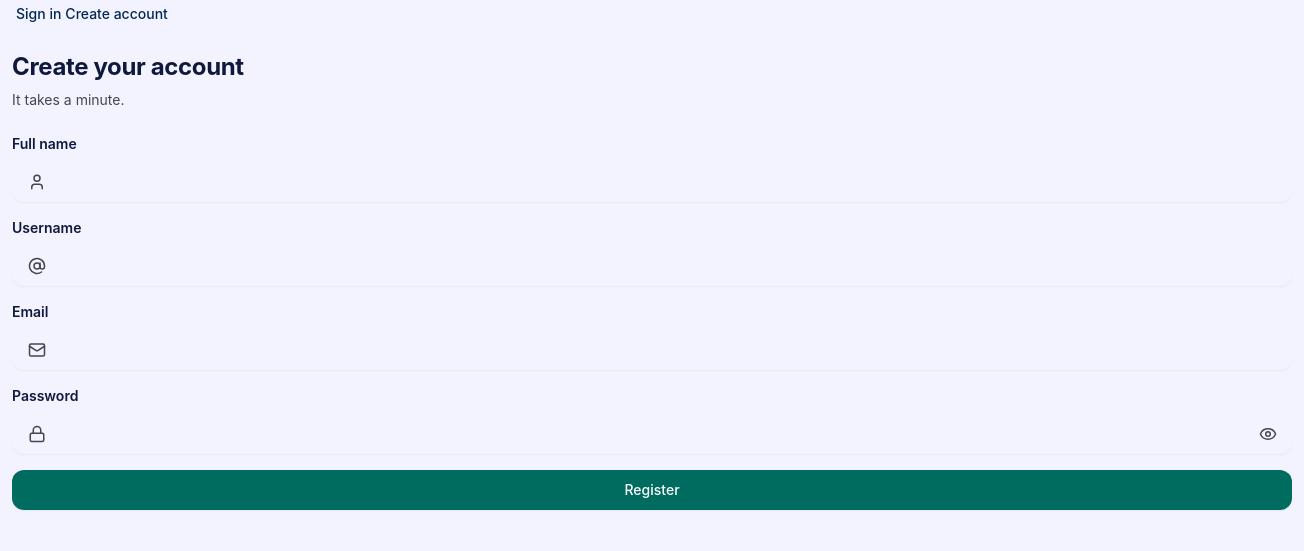
Test case: AuthForm › checks availability on blur and shows the taken message
The width and height of the screenshot is (1304, 551).
In the field labelled "Username": (652, 266) 12,246 -> 1292,286, type "ann"
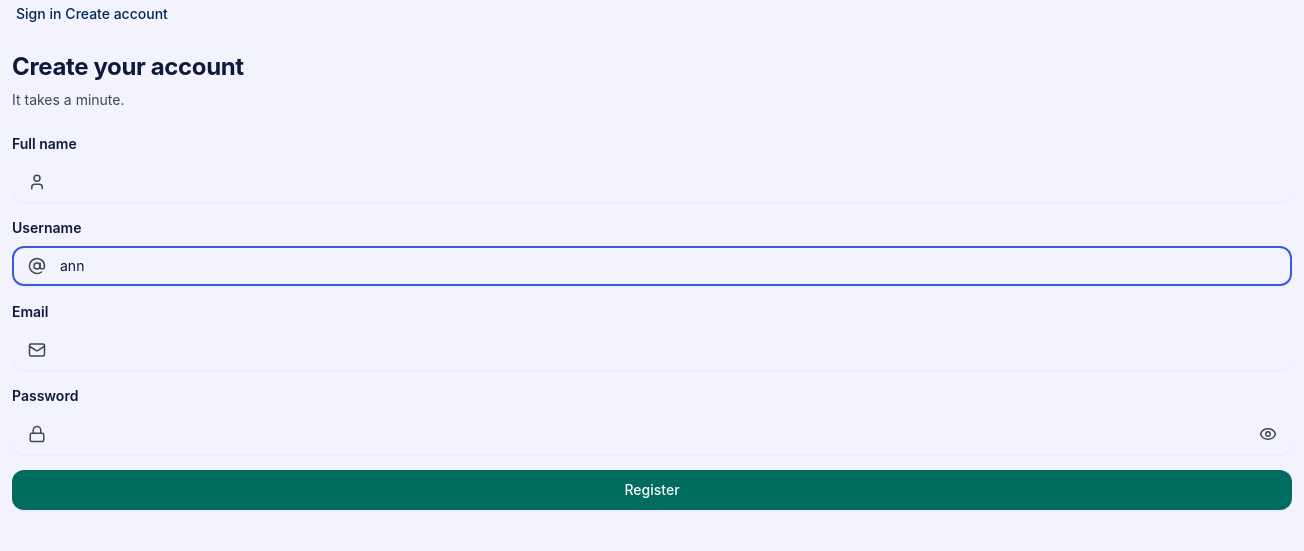
Press Tab
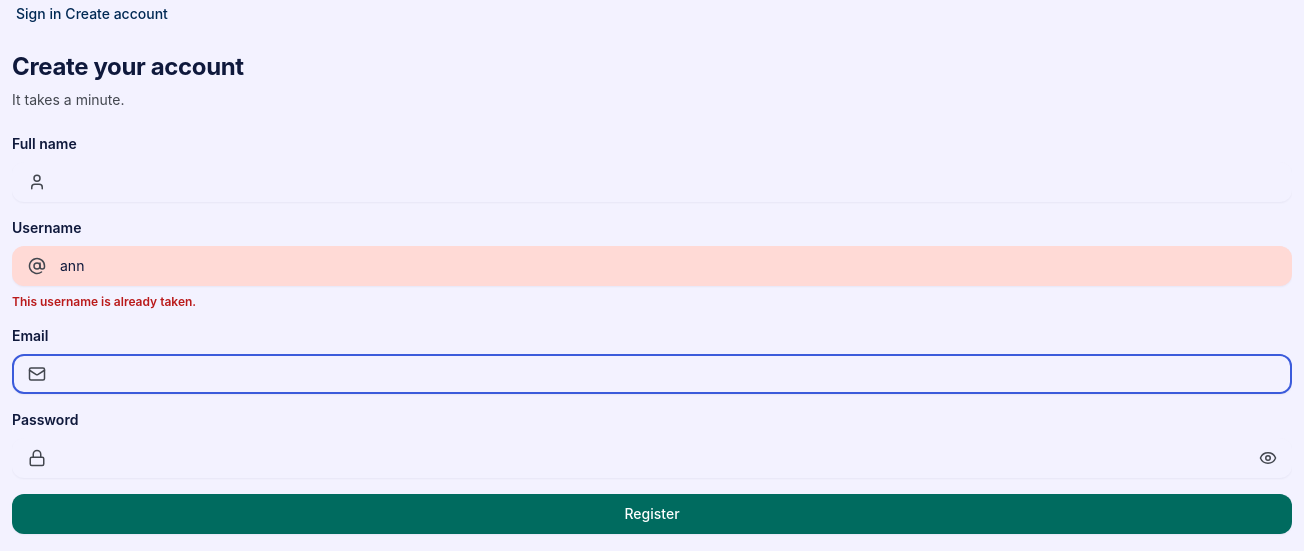
expect the text "This username is already taken." is shown: met, box 12,294 -> 196,309
